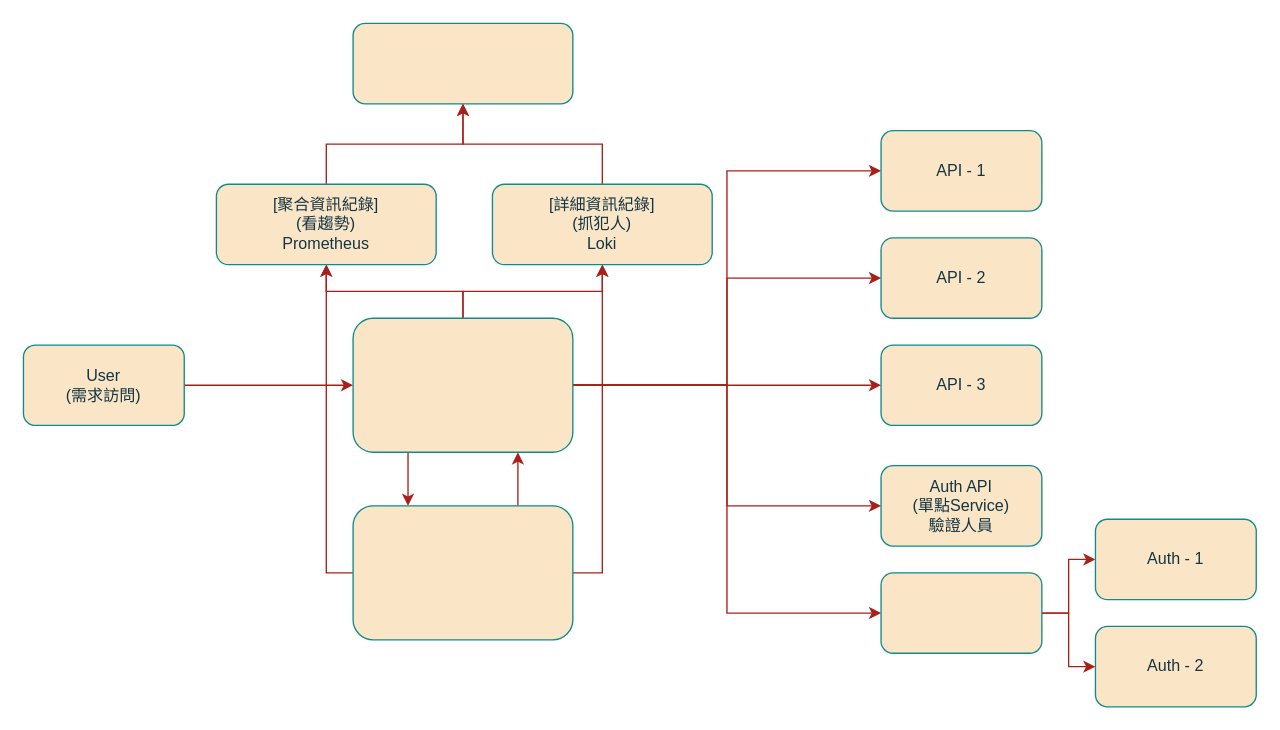
Some shapes in this 1280 by 730 pixel diagram are drawn without their labels. Each missing label, with the box of its shape:
[API Gateway] (來源管控) Traefik: (352, 317, 573, 452)
[Dashboard] (儀錶板監控) Grafana: (352, 22, 573, 104)
[Middleware] Auth API (使用AUO NT 進行JWT認證 ): (352, 505, 573, 640)
Auth API (Load Balance進階版) 驗證人員: (880, 572, 1042, 653)
